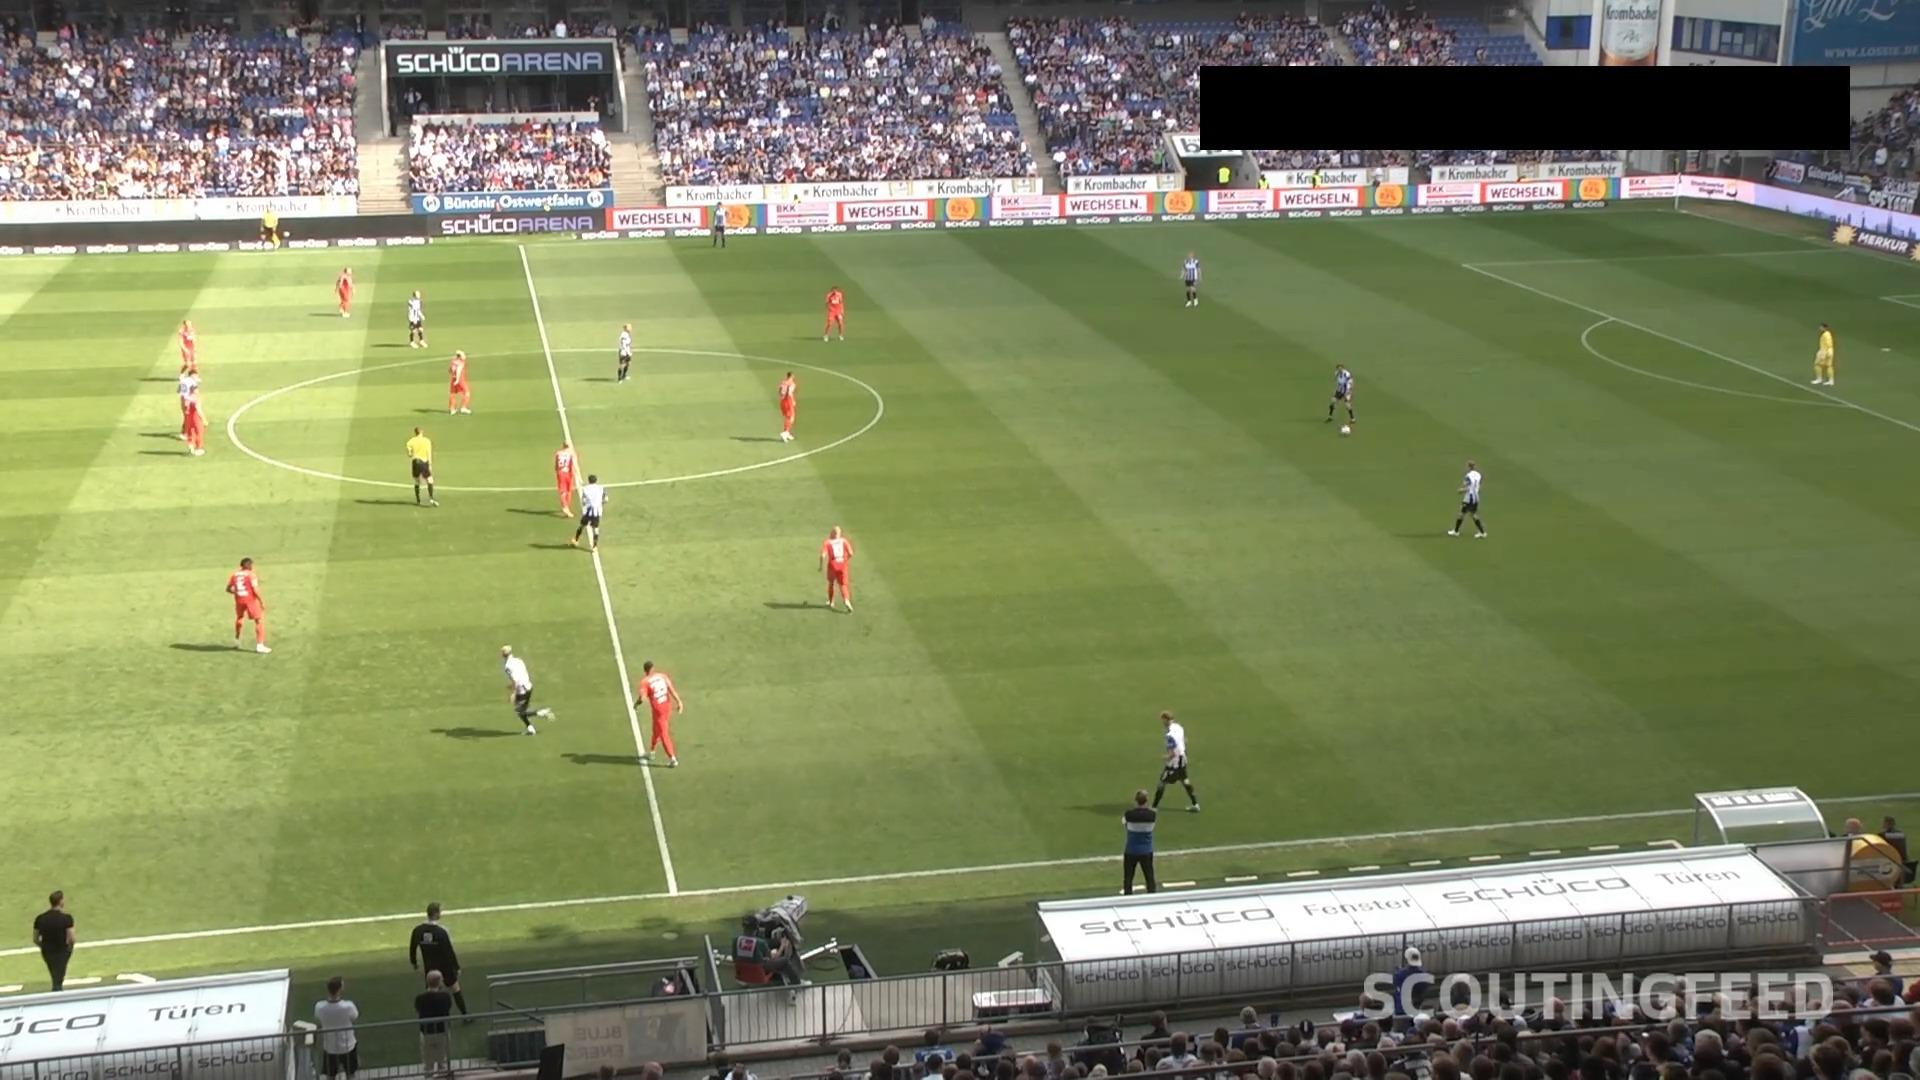ball: (1338, 423, 1352, 436)
